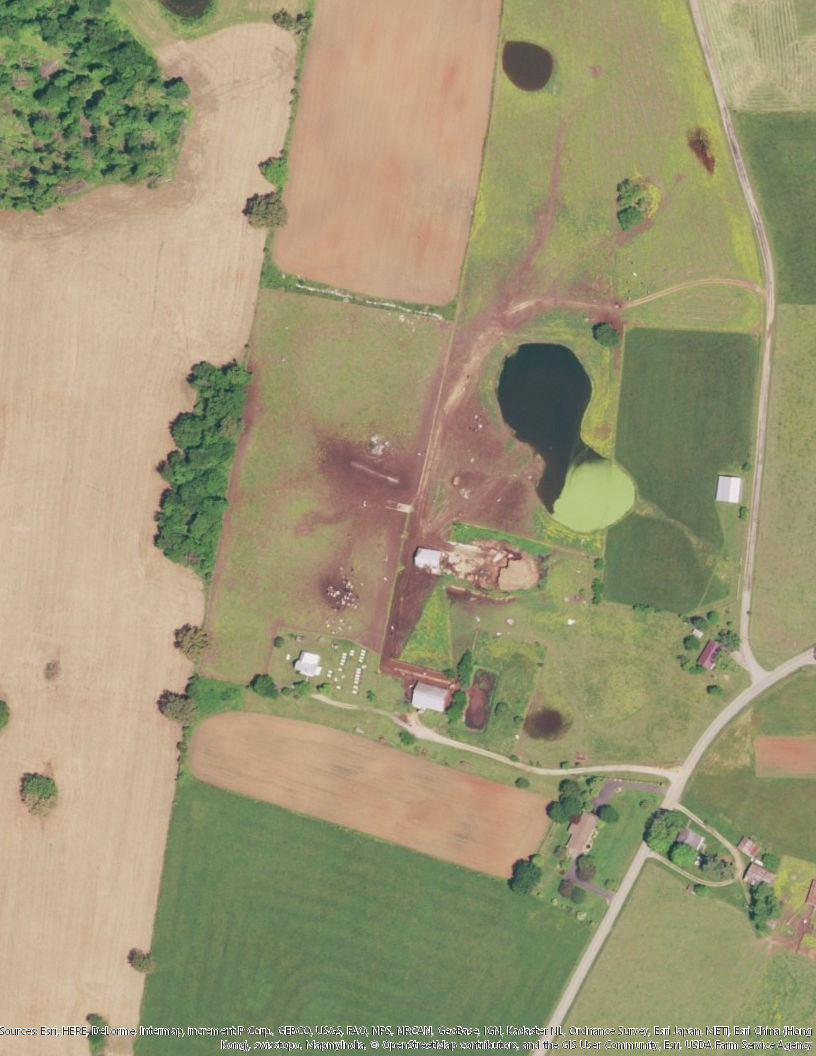cafo: (414, 534, 492, 583), (408, 678, 459, 715)
